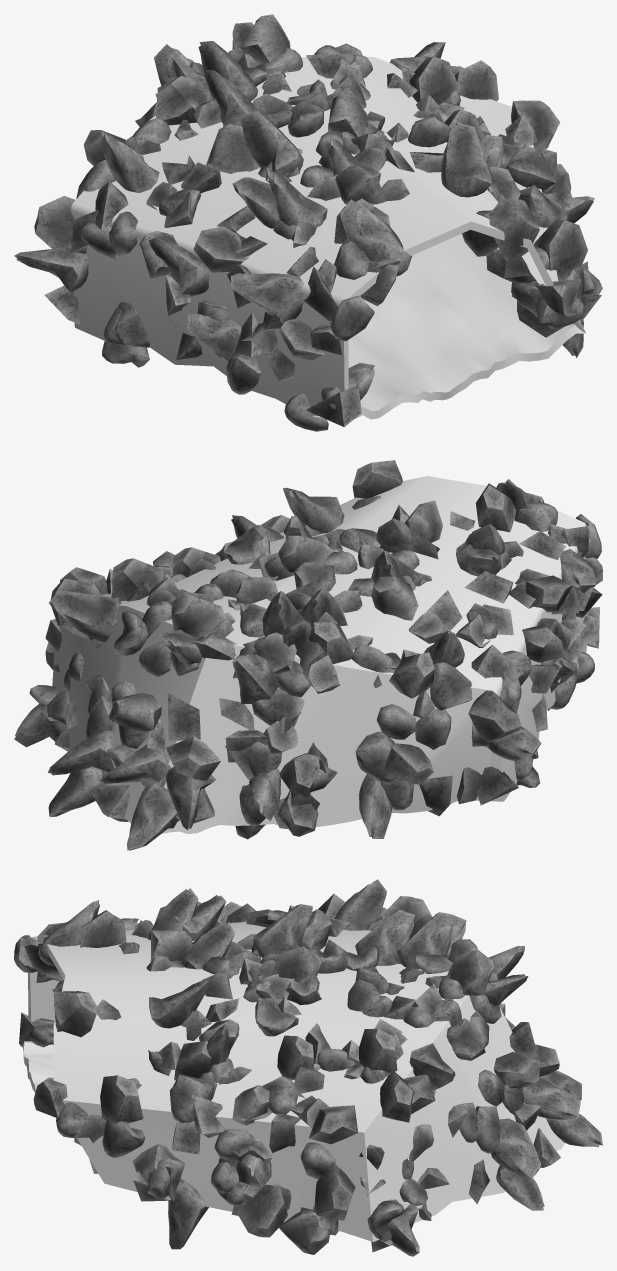
File: Cave.fbx
3 views of the same model, one above another, from view 1: azimuth 30°, elevation 25°; view 2: azimuth 150°, elevation 25°; view 3: azimuth 270°, elevation 25° (orthographic). The views are drawn at different scales.
Visible parts, largest first — view 1: Scatter5 Merged Export.002, Cave; view 2: Scatter5 Merged Export.002, Cave; view 3: Scatter5 Merged Export.002, Cave.
Part boxes in pixels (<box>): Scatter5 Merged Export.002: <box>14,14,602,431</box>; Cave: <box>71,57,585,419</box>; Scatter5 Merged Export.002: <box>14,460,602,850</box>; Cave: <box>52,476,587,834</box>; Scatter5 Merged Export.002: <box>14,879,602,1256</box>; Cave: <box>22,922,564,1241</box>.
Size of the model in its own units: 110 by 52.03 by 115.
